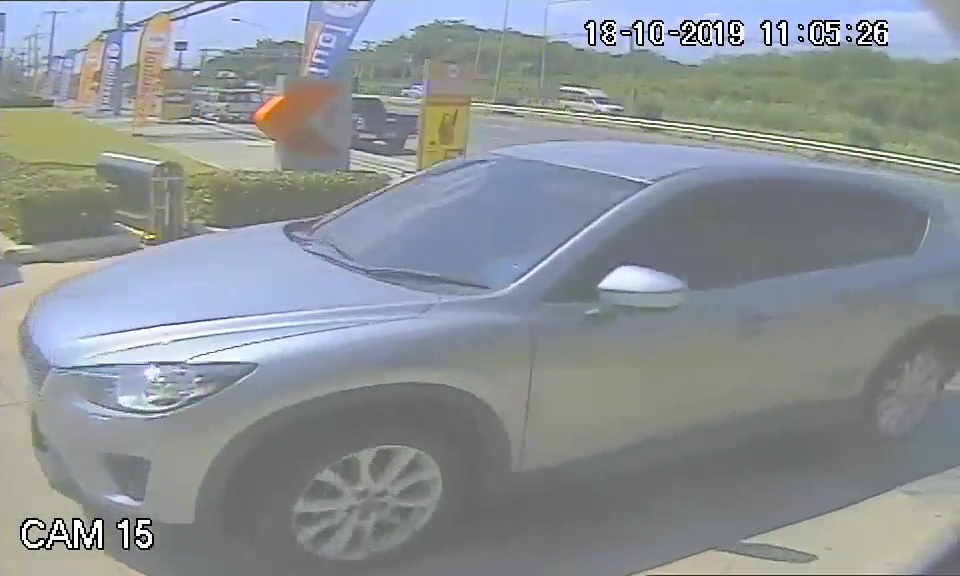pickup: (8, 131, 955, 521)
